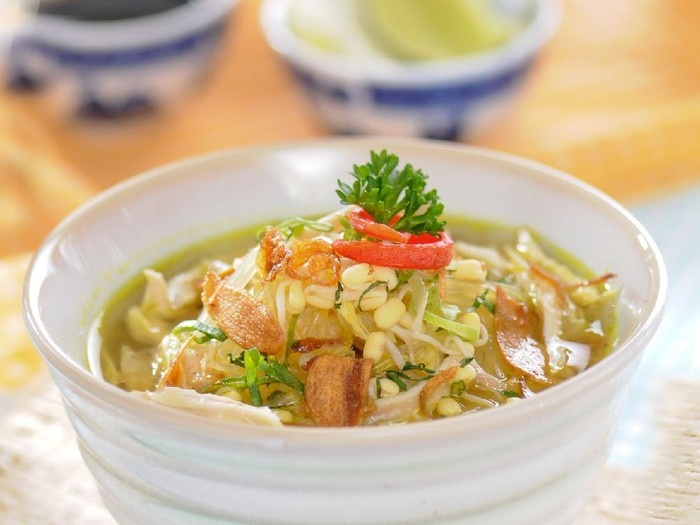soto: (27, 105, 645, 457)
